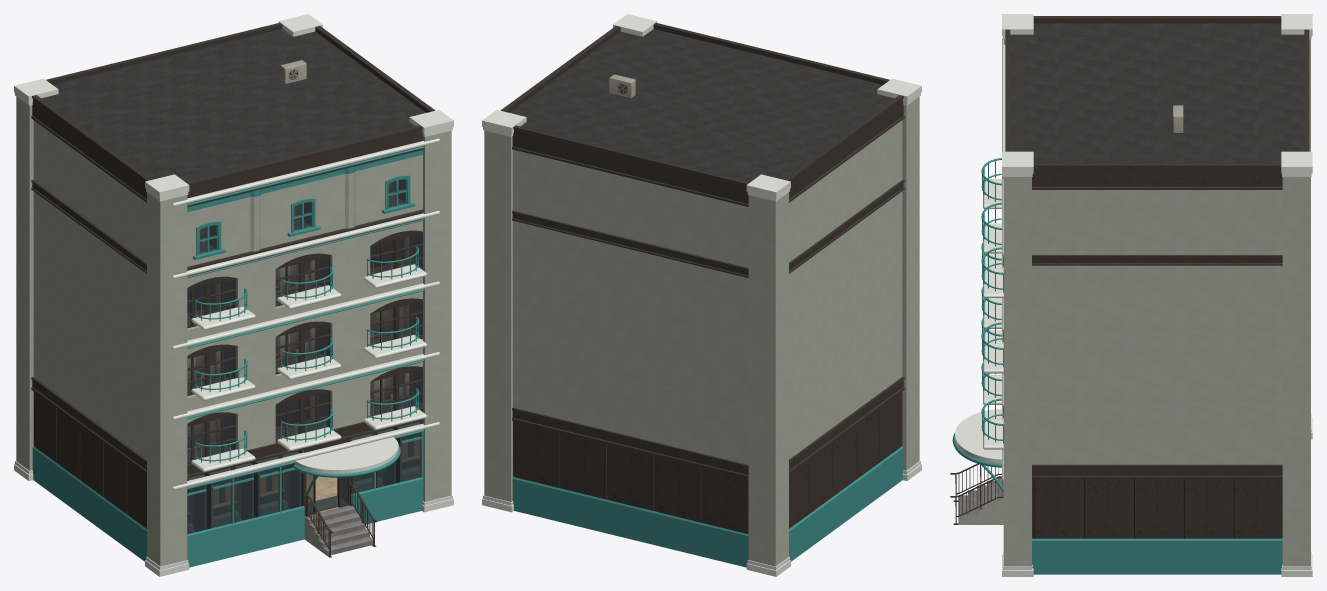
Rendered from coastal-hotel.glb.
The picture shows the model from 3 angles, left to right: view 1: azimuth 30°, elevation 25°; view 2: azimuth 150°, elevation 25°; view 3: azimuth 270°, elevation 25°; orthographic projection. The views are drawn at different scales.
Visible parts, largest first — view 1: Building_Small_1; view 2: Building_Small_1; view 3: Building_Small_1.
Boxes of the visible parts, box(x1,y1,x2,y2) form: Building_Small_1: box(14, 14, 453, 576); Building_Small_1: box(482, 14, 921, 576); Building_Small_1: box(950, 14, 1312, 576).
Bounding box in the file's own units: 12 × 15.58 × 12.
19 materials, 11 textured.
